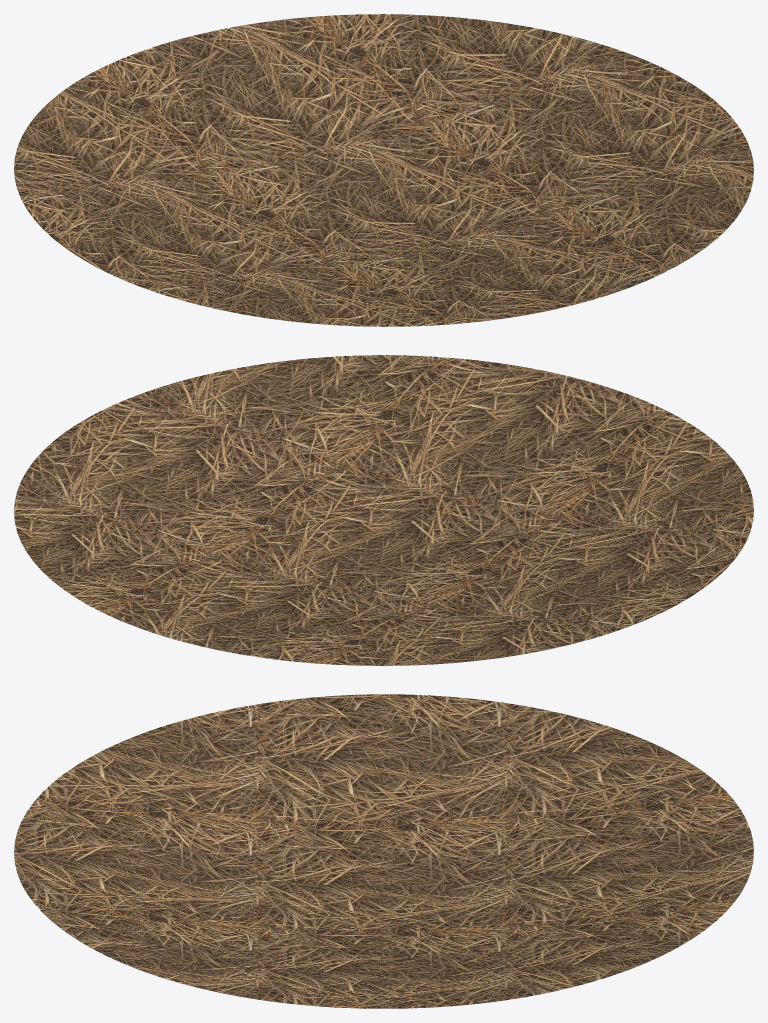
Rendered from dry_straw_on_the_ground_tile_texture.glb.
The picture shows the model from 3 angles, top to bottom: view 1: azimuth 30°, elevation 25°; view 2: azimuth 150°, elevation 25°; view 3: azimuth 270°, elevation 25°; orthographic projection.
Parts seen in each view (by area): view 1: Object_2; view 2: Object_2; view 3: Object_2.
Part boxes in pixels (x1,y1,x2,y2): Object_2: (14, 14, 753, 326); Object_2: (14, 355, 753, 665); Object_2: (14, 694, 753, 1008).
Bounding box in the file's own units: 1316 × 67 × 1316.
1 material, 1 textured.
